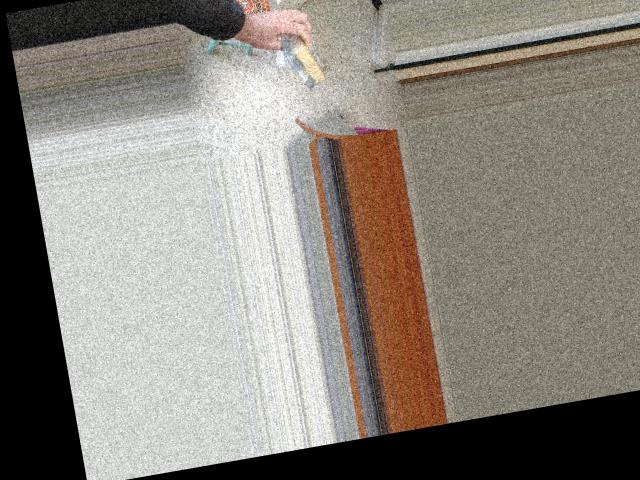cheese: (270, 14, 333, 98)
